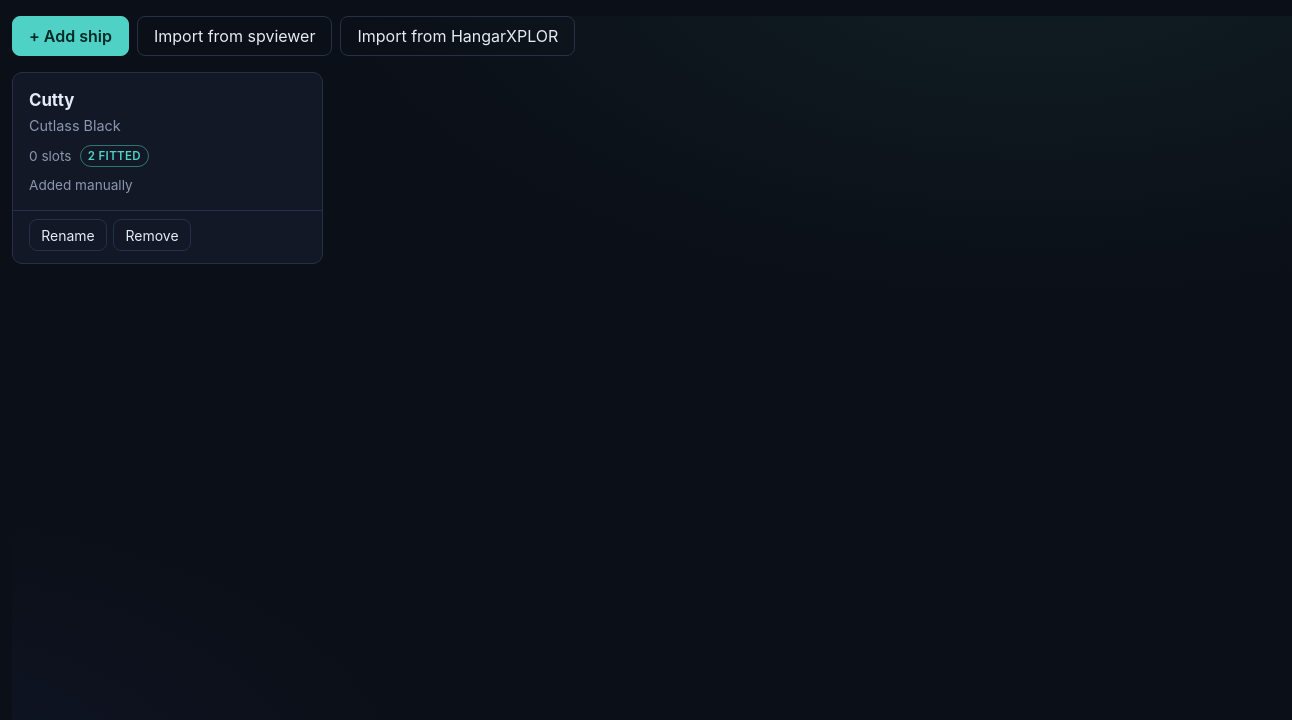
Test case: HangarView › asks for confirmation before removing, and Keep cancels
Click the button "Remove": click(152, 235) [113,219,191,251]
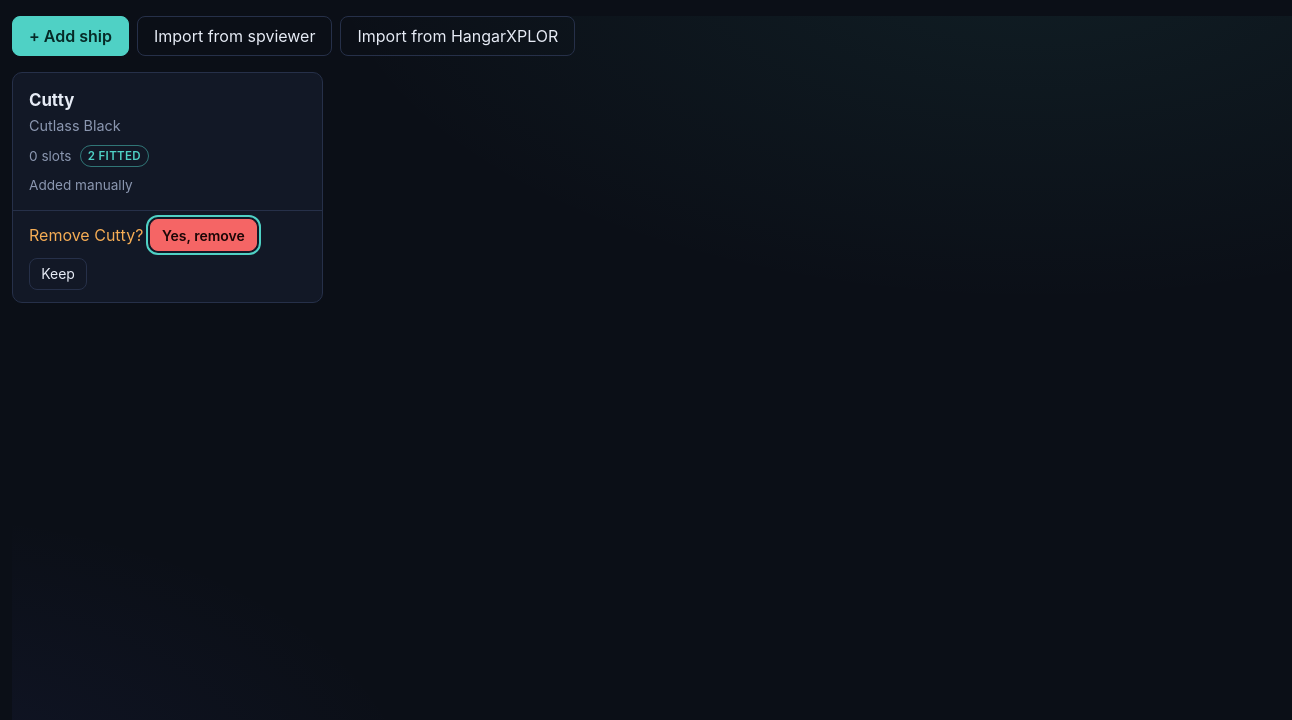
Check: the text "Remove Cutty?" is shown, box [29,223,143,247]
Click the button "Keep": click(58, 274) [29,258,87,290]
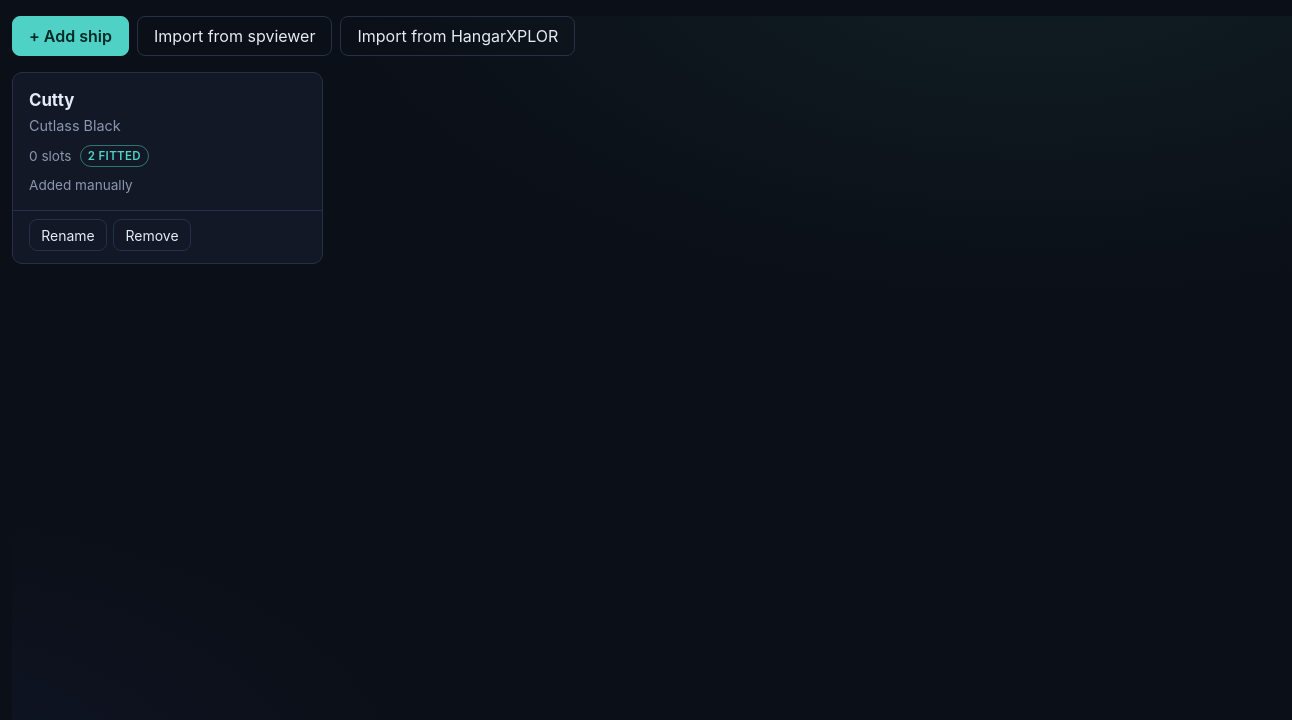
Click the button "Remove": click(152, 235) [113,219,191,251]
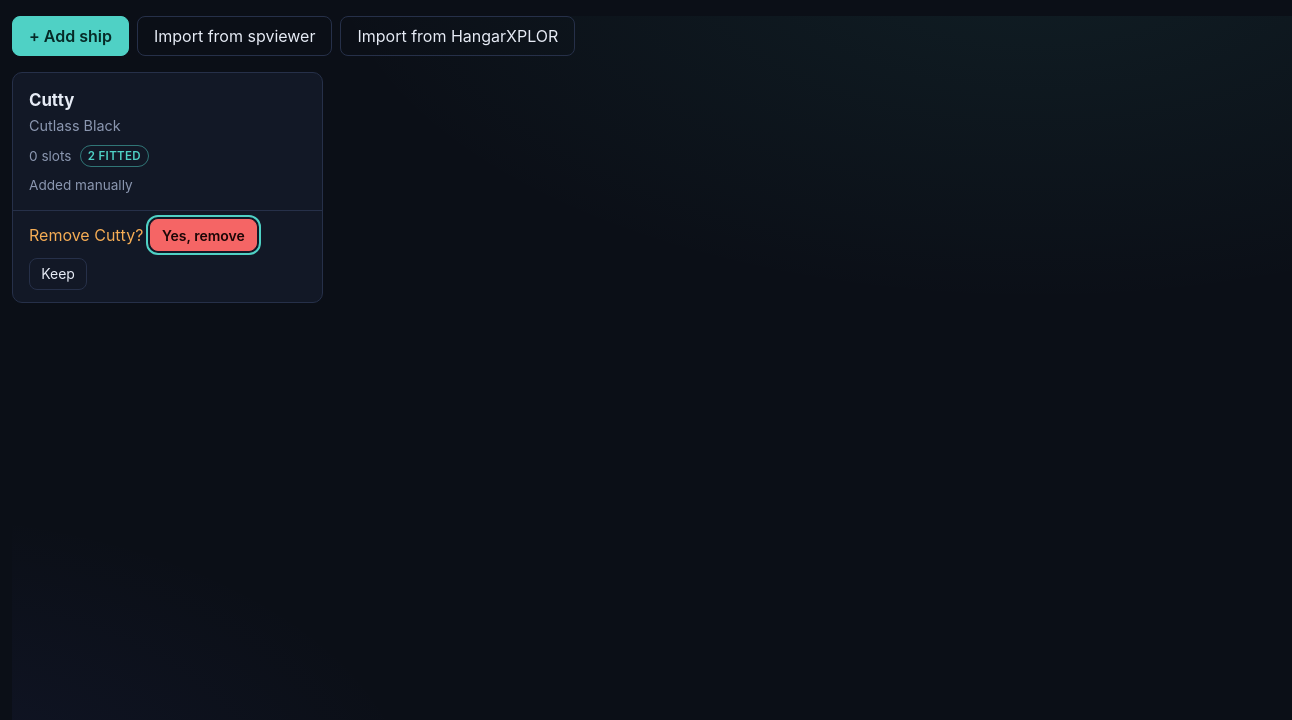
Click the button "Yes, remove": click(203, 235) [150,219,257,251]
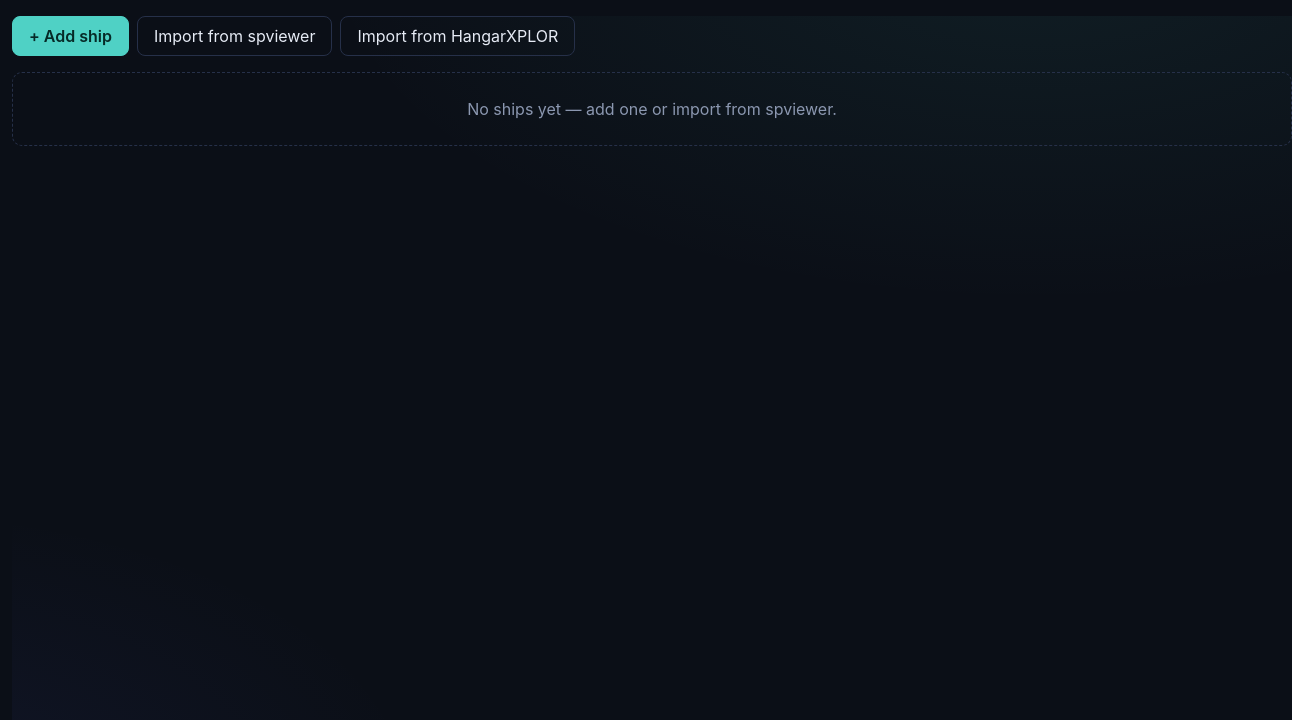
Check: the text "No ships yet — add one or import from spviewer." is shown, box [12,72,1291,146]
